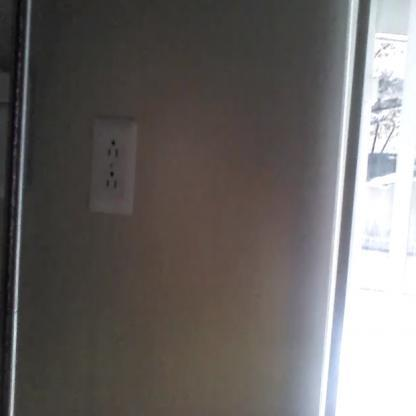OUTLET: (91, 118, 138, 212)
